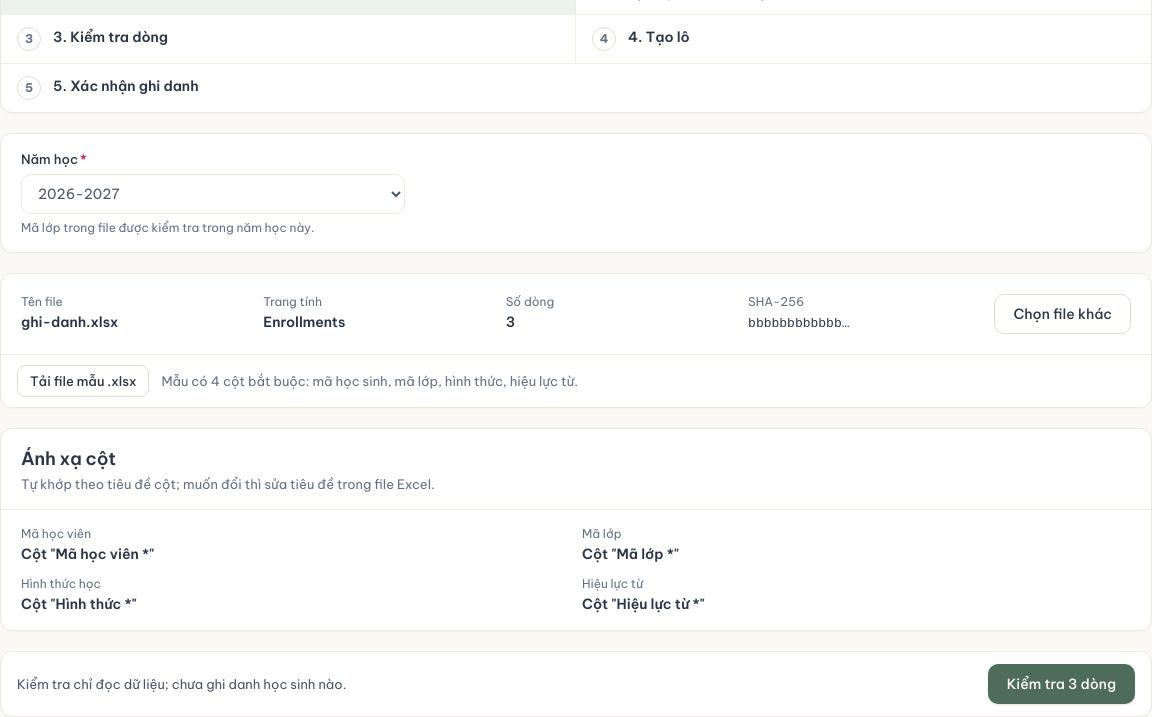
Test: EnrollmentImportPage wizard › drops a dry-run answer that lands after the file was cleared
(page scrolled)
Click the button "Kiểm tra 3 dòng".
click(1061, 684)  # box x1=988 y1=664 x2=1135 y2=704
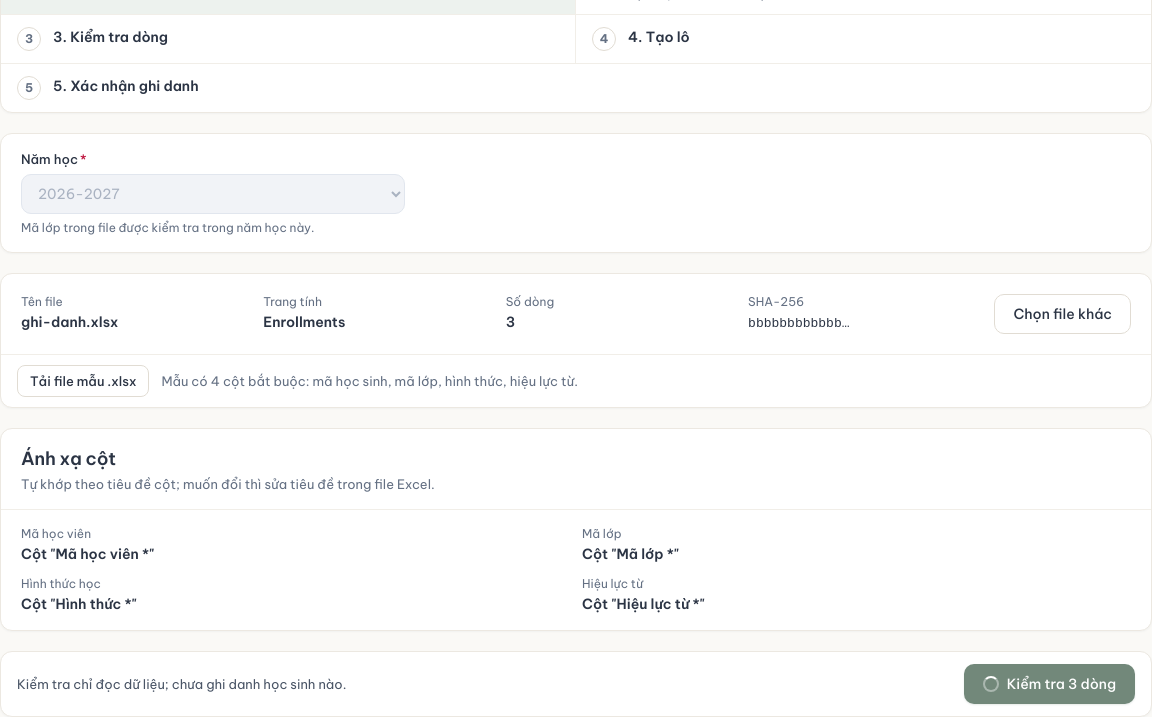
Click the button "Chọn file khác".
click(1063, 314)  # box x1=994 y1=294 x2=1131 y2=334
(page scrolled)
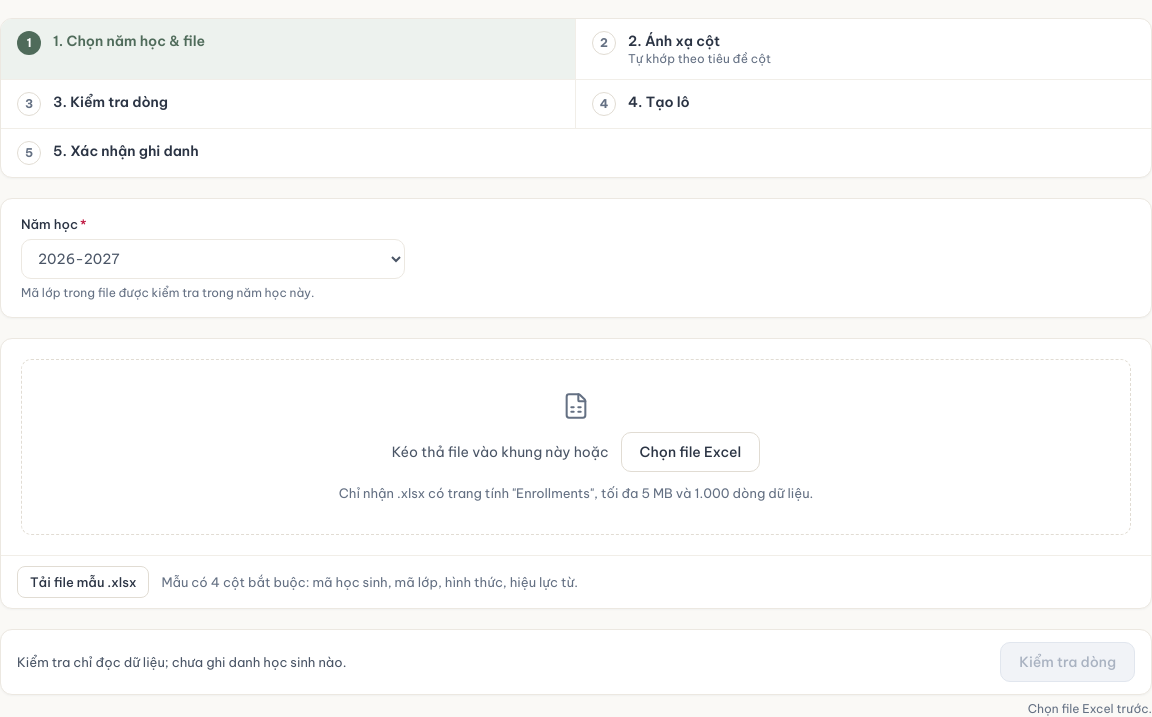
Check: the list item "1 1. Chọn năm học & file" is shown, box x1=1 y1=19 x2=576 y2=79
Check: the button "Kiểm tra dòng" is disabled, box x1=1000 y1=642 x2=1135 y2=682
Check: the text "Chọn file Excel trước." is shown, box x1=1028 y1=701 x2=1151 y2=716
